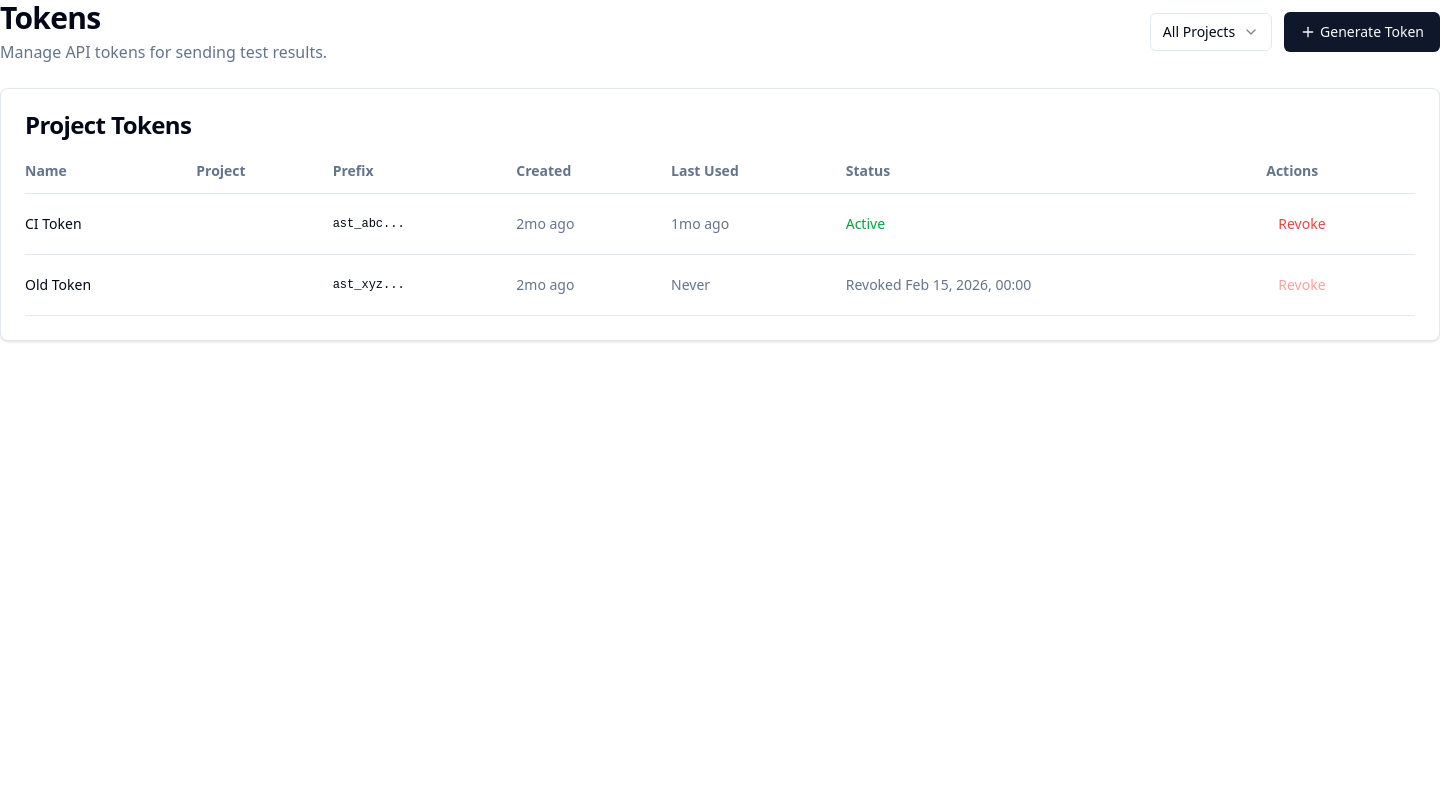
TokensPage › opens create dialog and submits to show one-time token
Click the button "Generate Token".
click(1362, 32)  # box 1284,12 -> 1439,52
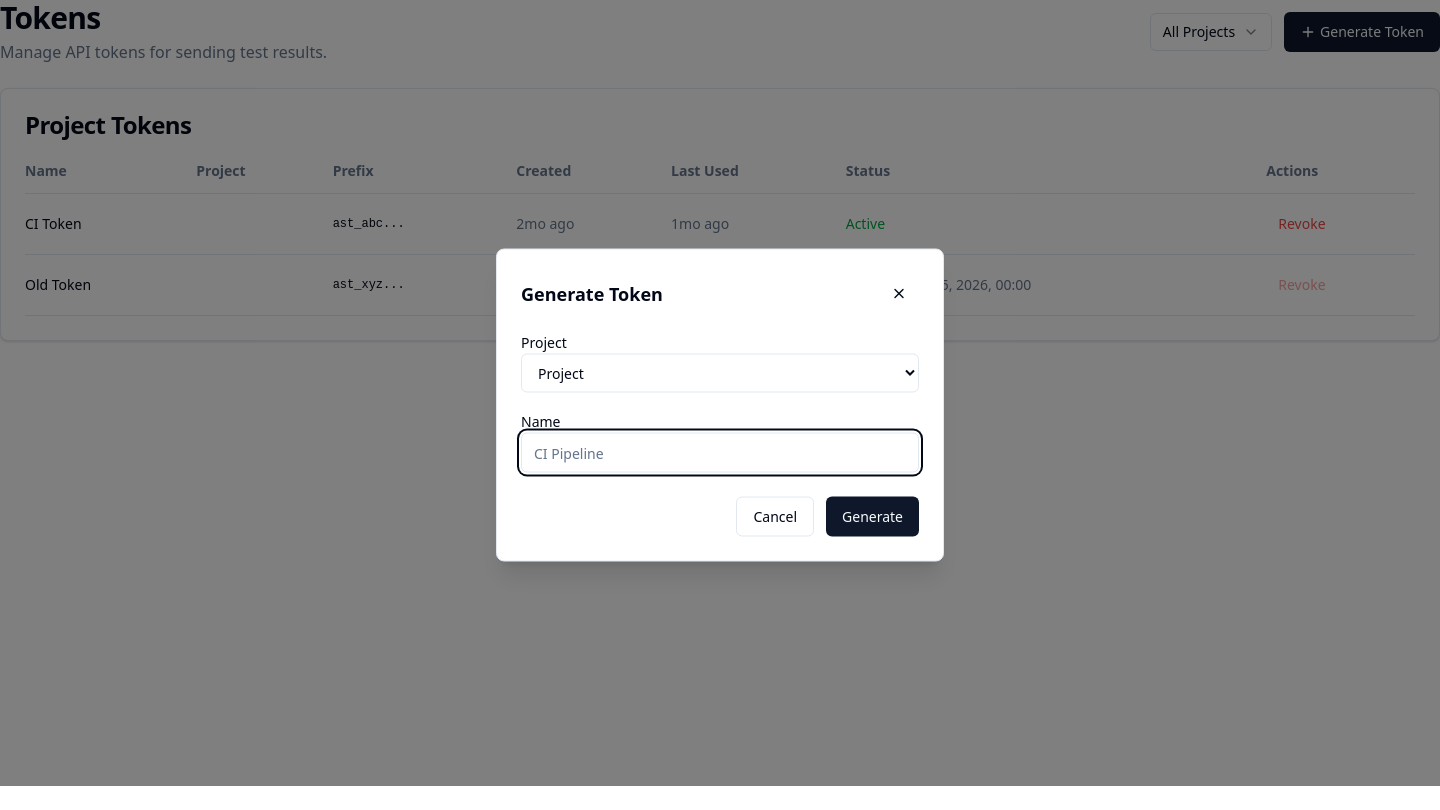
Now the dialog is shown, box 496,248 -> 944,562
Type "New Token" into the field labelled "Name".
click(720, 452); type("New Token")  # box 521,432 -> 919,472
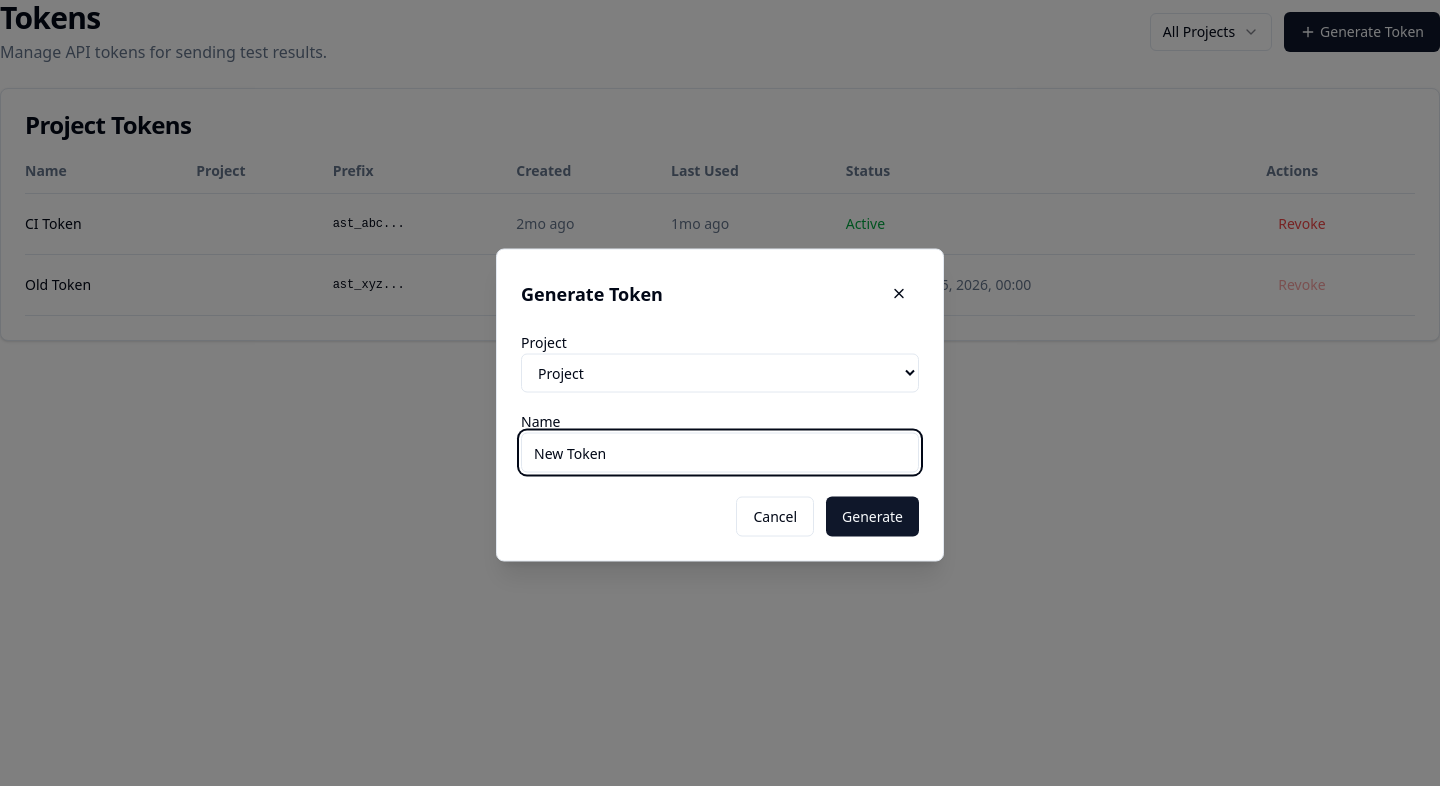
Click the button "Generate".
click(872, 516)  # box 826,496 -> 919,536
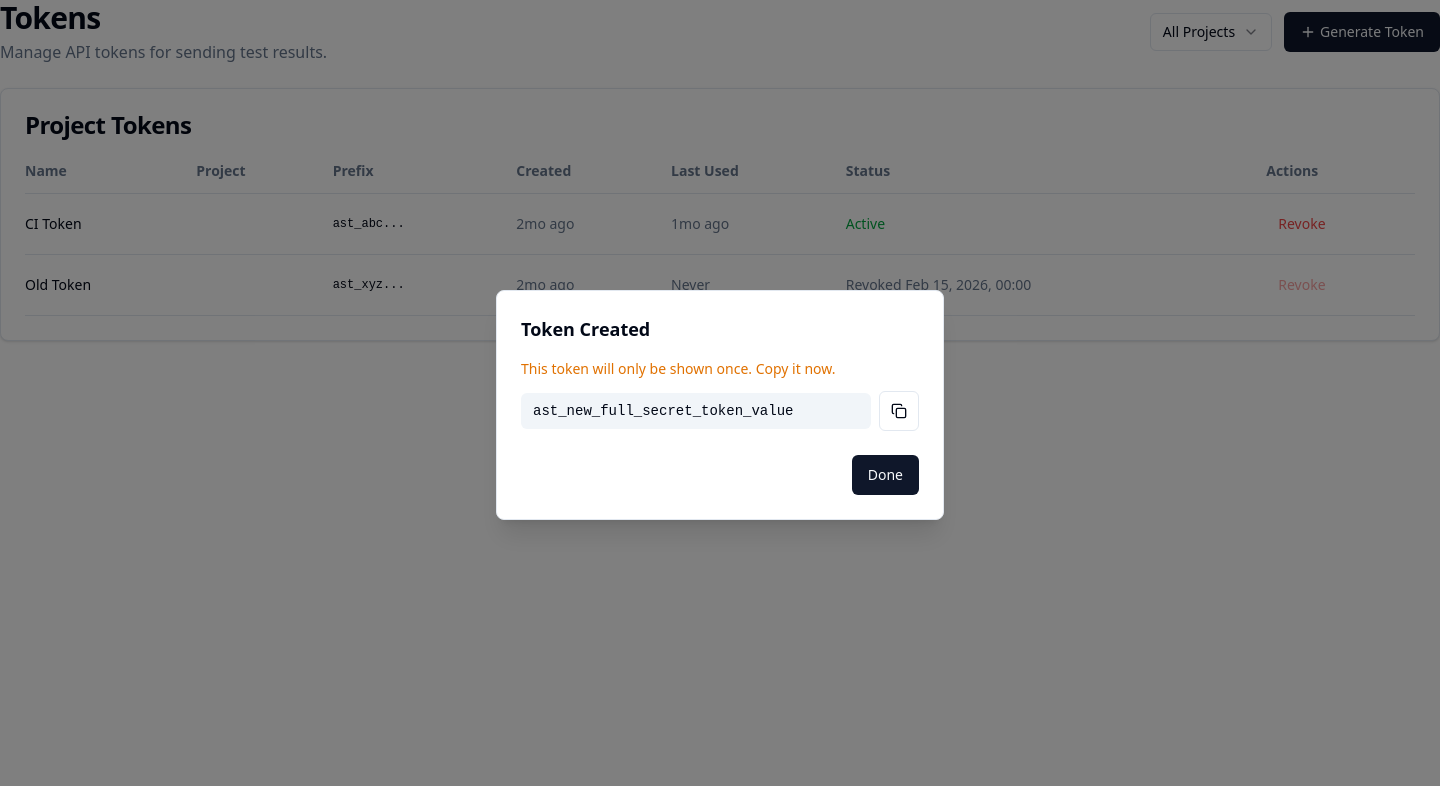
Now the heading "Token Created" is shown, box 521,315 -> 650,343
Now the text "ast_new_full_secret_token_value" is shown, box 521,393 -> 871,429
Now the text "This token will only be shown once. Copy it now." is shown, box 521,359 -> 836,378
